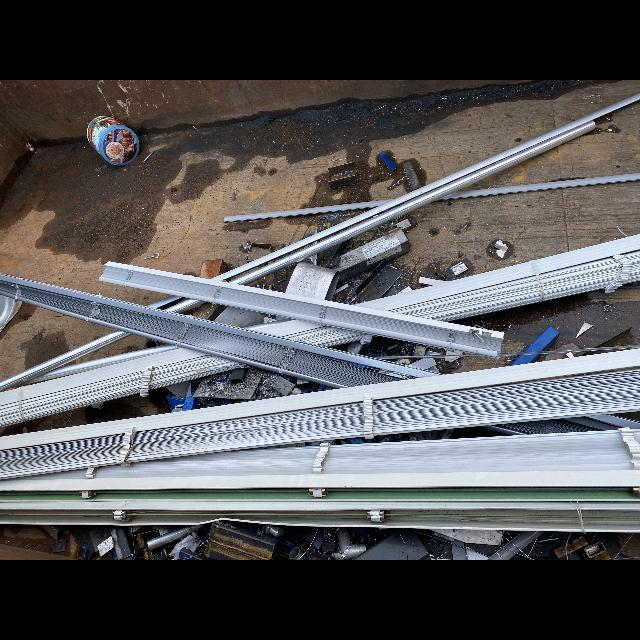Aluminium: (0, 368, 640, 480), (0, 280, 415, 387), (101, 266, 502, 353), (8, 428, 640, 479), (35, 429, 640, 478), (389, 250, 640, 322), (0, 355, 248, 427), (283, 326, 377, 347)
Ferrous Metal: (210, 93, 640, 281), (0, 348, 640, 451), (227, 120, 595, 285), (0, 273, 443, 377), (0, 290, 350, 388), (99, 276, 498, 357), (105, 261, 505, 341), (353, 233, 640, 311), (0, 470, 640, 503), (0, 502, 640, 532), (0, 348, 208, 406), (0, 330, 131, 392), (21, 344, 181, 387), (438, 173, 640, 200), (223, 199, 395, 222), (206, 522, 279, 560), (87, 116, 140, 166), (352, 529, 430, 560), (355, 258, 403, 302), (563, 414, 640, 431), (254, 319, 325, 336), (429, 529, 502, 545), (215, 306, 264, 328), (524, 326, 559, 352), (0, 295, 22, 334), (328, 162, 358, 190), (109, 526, 132, 560), (87, 525, 111, 552), (164, 298, 206, 313), (244, 318, 294, 330), (511, 531, 544, 549), (245, 242, 273, 263), (402, 161, 422, 190), (147, 295, 185, 310), (530, 541, 564, 556), (481, 425, 528, 435), (585, 542, 612, 559), (179, 547, 214, 560), (379, 151, 398, 174), (316, 243, 341, 260), (136, 534, 152, 560), (425, 537, 446, 556), (40, 526, 66, 541), (321, 248, 340, 268), (319, 210, 357, 220), (568, 536, 588, 554), (511, 354, 538, 365), (229, 368, 247, 384), (325, 214, 344, 229), (166, 395, 186, 408), (181, 397, 199, 411), (488, 550, 515, 559), (453, 544, 467, 560), (380, 285, 396, 298), (52, 539, 66, 553), (77, 545, 89, 560), (554, 546, 566, 560), (334, 284, 349, 295), (505, 542, 519, 553), (396, 219, 411, 229), (216, 372, 229, 382), (278, 269, 287, 282), (277, 269, 284, 281), (275, 244, 284, 251), (207, 380, 213, 386), (313, 254, 316, 265), (269, 285, 273, 290), (314, 228, 317, 234), (313, 242, 317, 245)
Galvanized Steel: (327, 227, 410, 285), (285, 261, 339, 300), (148, 527, 190, 550), (338, 527, 366, 559), (266, 525, 286, 537), (289, 547, 304, 560)
Stainless Steel: (419, 276, 448, 285), (451, 262, 468, 275)
